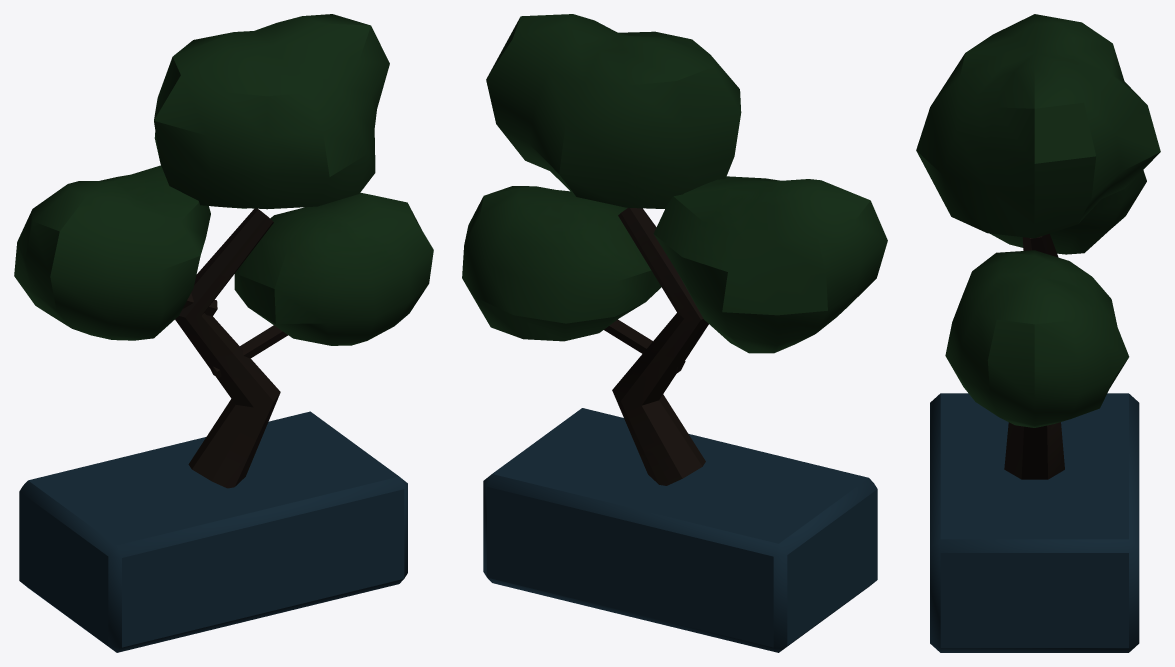
Rendered from fs-bonsai.glb.
The picture shows the model from 3 angles, left to right: view 1: azimuth 30°, elevation 25°; view 2: azimuth 150°, elevation 25°; view 3: azimuth 270°, elevation 25°; orthographic projection. The views are drawn at different scales.
Parts seen in each view (by area): view 1: needles__plant, pot__lacquer, trunk__wood; view 2: needles__plant, pot__lacquer, trunk__wood; view 3: needles__plant, pot__lacquer, trunk__wood.
Boxes of the visible parts, x1,y1,x2,y2 form: needles__plant: [14, 14, 433, 345]; pot__lacquer: [19, 411, 407, 652]; trunk__wood: [175, 208, 287, 488]; needles__plant: [462, 14, 887, 353]; pot__lacquer: [483, 408, 877, 652]; trunk__wood: [604, 208, 708, 485]; needles__plant: [916, 14, 1160, 427]; pot__lacquer: [930, 393, 1139, 652]; trunk__wood: [1004, 233, 1064, 479].
Size of the model in its own units: 0.918 by 1.2 by 0.4679.
